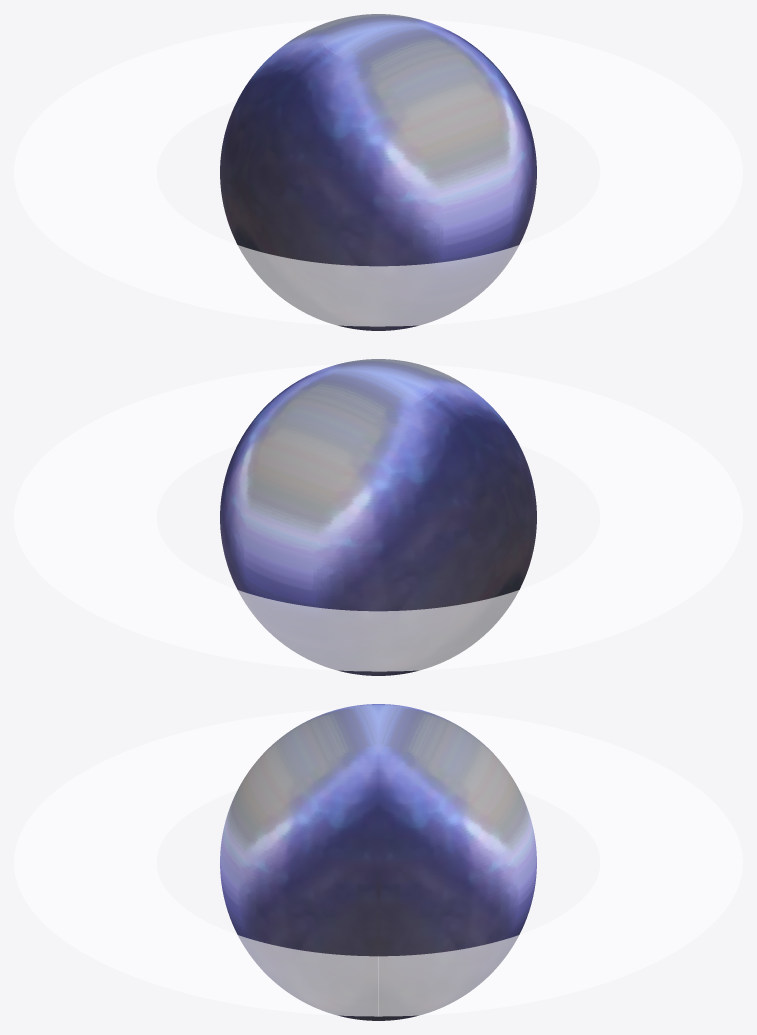
File: Kepler-16_b.glb
The picture shows the model from 3 angles, top to bottom: view 1: azimuth 30°, elevation 25°; view 2: azimuth 150°, elevation 25°; view 3: azimuth 270°, elevation 25°; orthographic projection.
Visible parts, largest first — view 1: Kepler-16_b; view 2: Kepler-16_b; view 3: Kepler-16_b.
Part boxes in pixels (x1,y1,x2,y2): Kepler-16_b: (14, 14, 742, 330); Kepler-16_b: (14, 359, 742, 675); Kepler-16_b: (14, 704, 742, 1020).
Bounding box in the file's own units: 4.6 × 2 × 4.6.
Materials: 2 (1 with a texture image).
